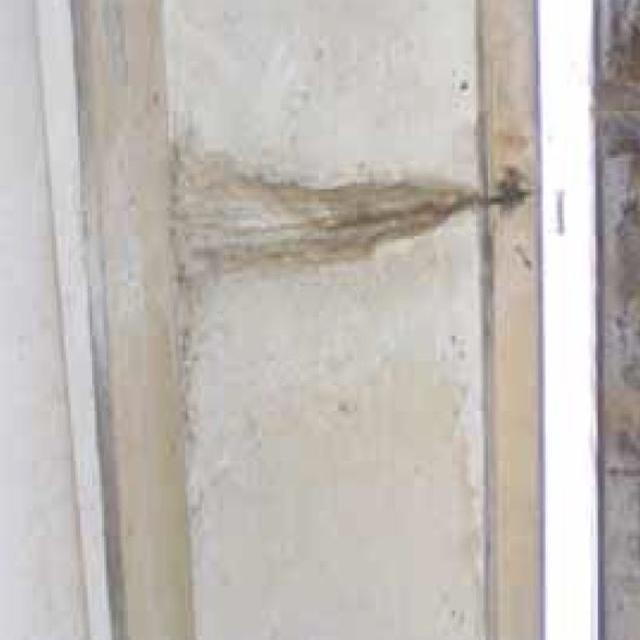leakage: (170, 129, 456, 297)
